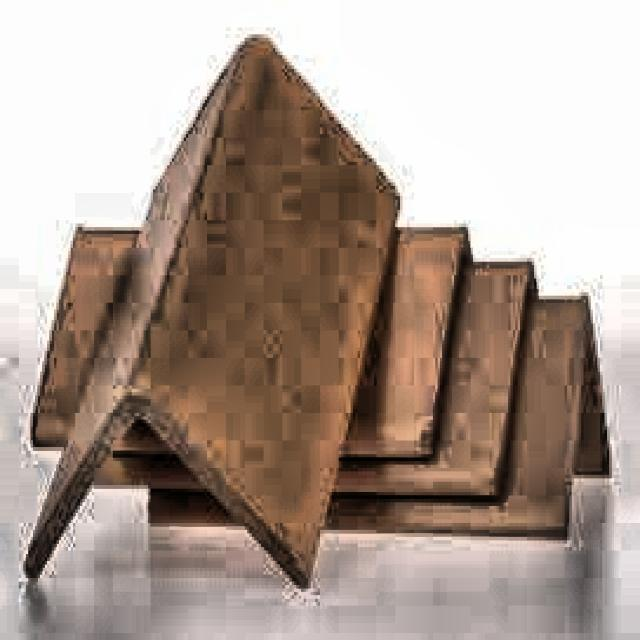cardboard: (26, 31, 400, 588)
